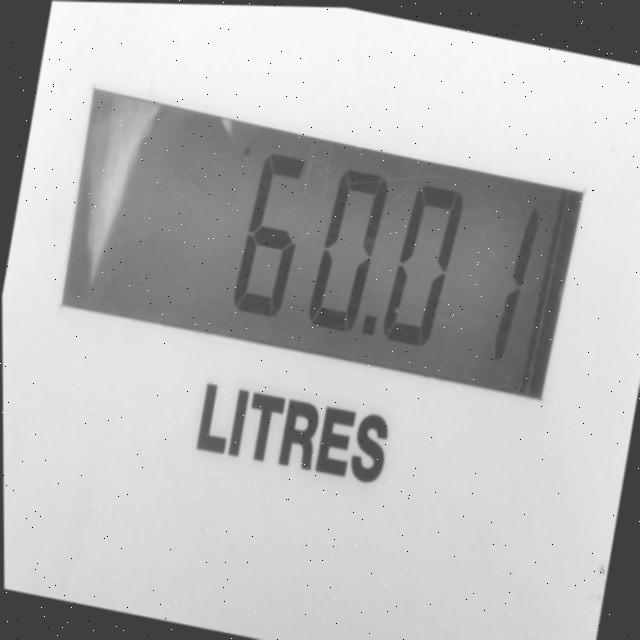.: (356, 300, 387, 350)
0: (379, 174, 478, 363), (297, 167, 391, 353)
1: (475, 174, 564, 374)
6: (219, 141, 315, 346)
